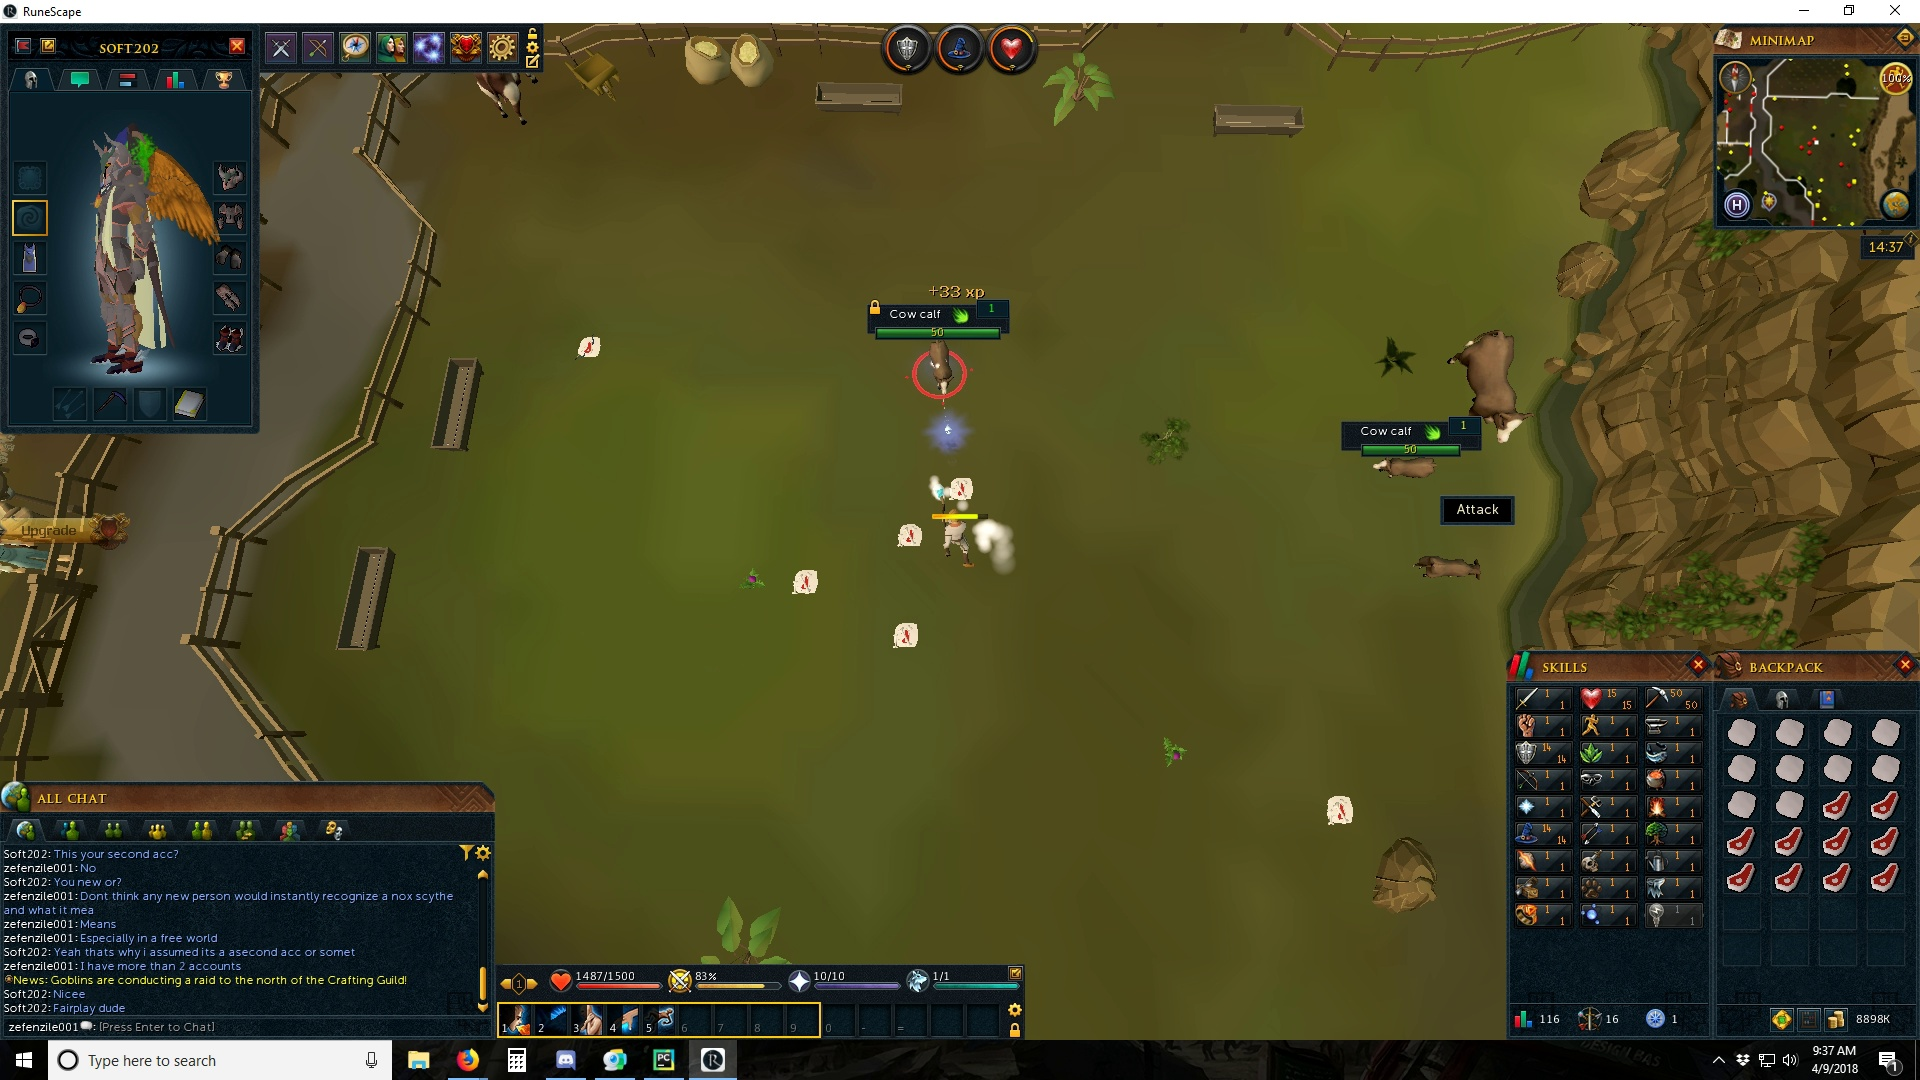calf: (1365, 459, 1445, 485), (1411, 555, 1487, 582), (927, 339, 955, 397)
cow: (1445, 328, 1536, 448)
cow_drop: (1323, 789, 1356, 829), (889, 617, 923, 655), (887, 520, 927, 550), (948, 473, 977, 505), (790, 566, 819, 596), (574, 328, 603, 357)
